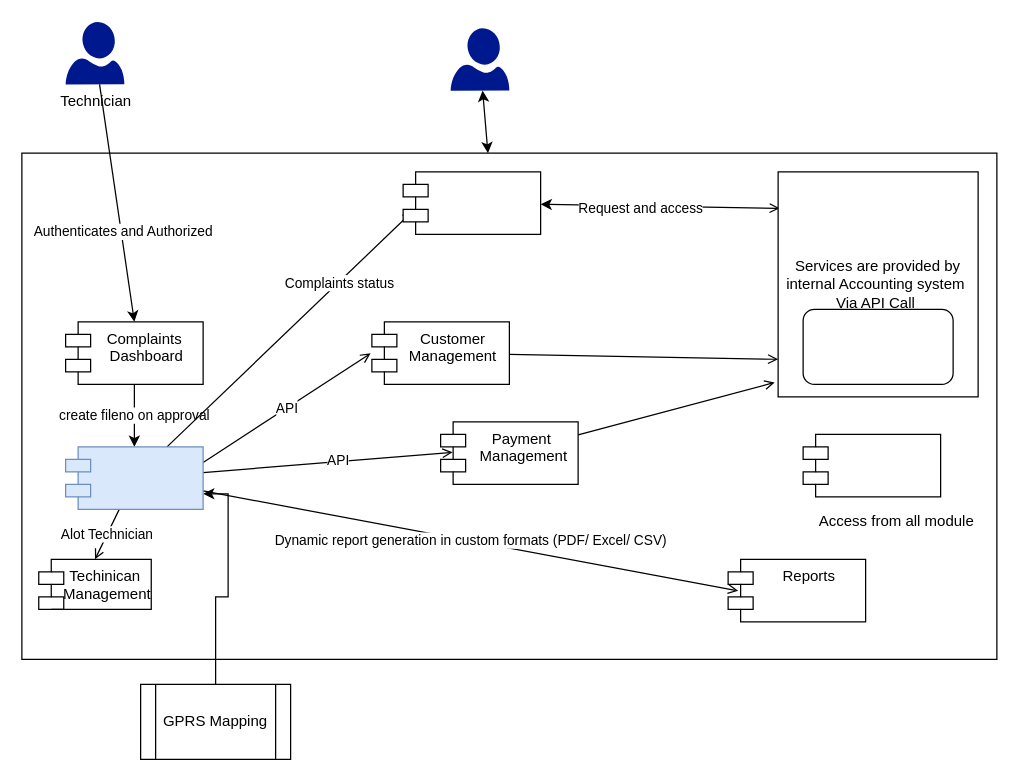
The diagram is 1019 pixels wide and 781 high, and some of its shapes have lost their labels. Each missing label, with the box of its shape:
Alerting System: (802, 433, 941, 497)
Complaint management: (402, 171, 541, 234)
HVACA Management: (64, 446, 203, 509)
Payment & Receipt: (802, 308, 953, 384)
Staff / Manager: (450, 28, 509, 90)
